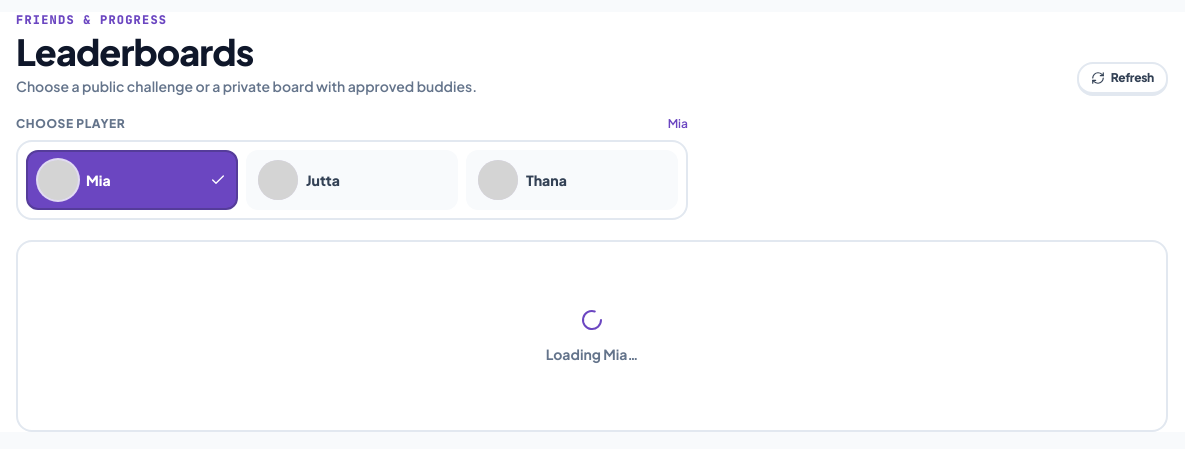
Scenario: Buddy Leaderboard page › switches directly between a small set of learner cards
Click the radio button labelled "Jutta" at (352, 180), box x1=246 y1=150 x2=458 y2=210
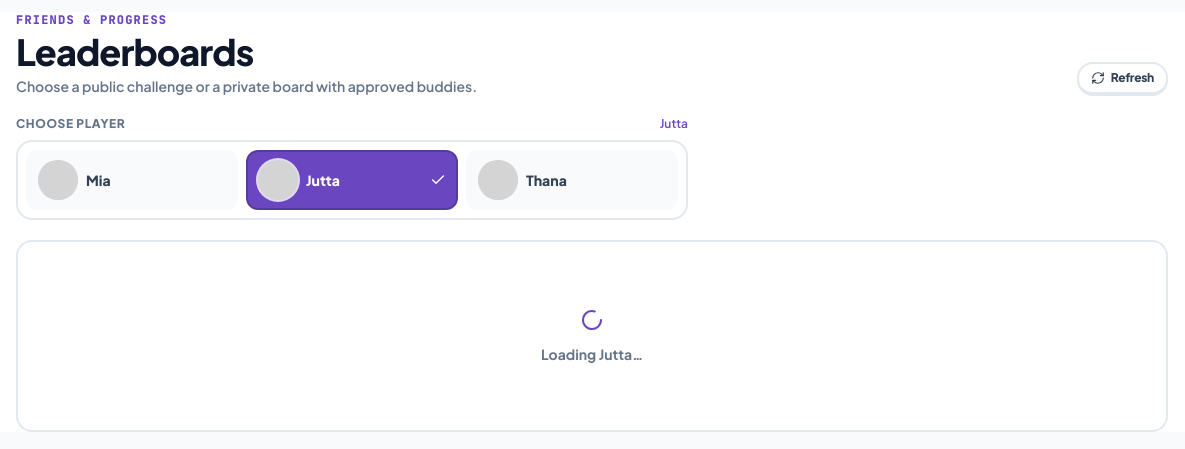
Result: the text "Loading Jutta…" is shown at x1=541 y1=344 x2=643 y2=364
